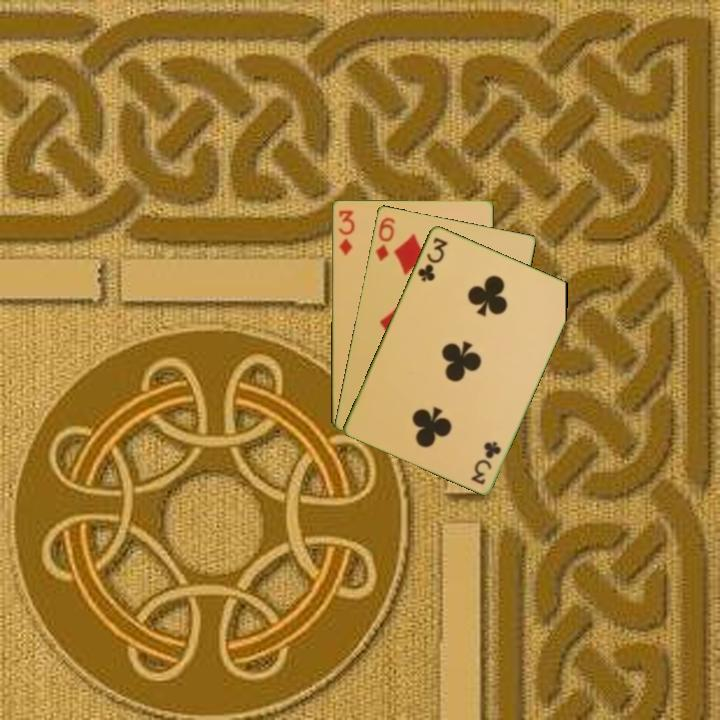3c: (414, 233, 450, 284), (468, 437, 504, 487)
3d: (334, 206, 357, 258)
6d: (372, 213, 397, 264)
